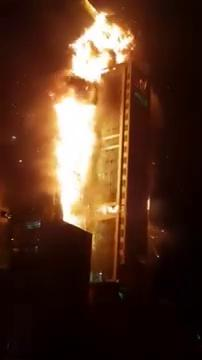fire: (55, 100, 99, 212), (79, 23, 125, 74)
